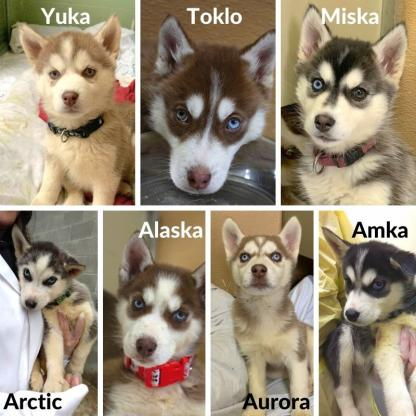dog: (287, 5, 416, 205), (155, 16, 277, 204), (12, 21, 135, 202), (219, 218, 312, 416), (322, 224, 415, 416), (110, 231, 206, 416), (12, 221, 98, 391)
